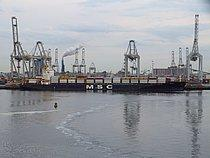Ship: (19, 47, 190, 94)
